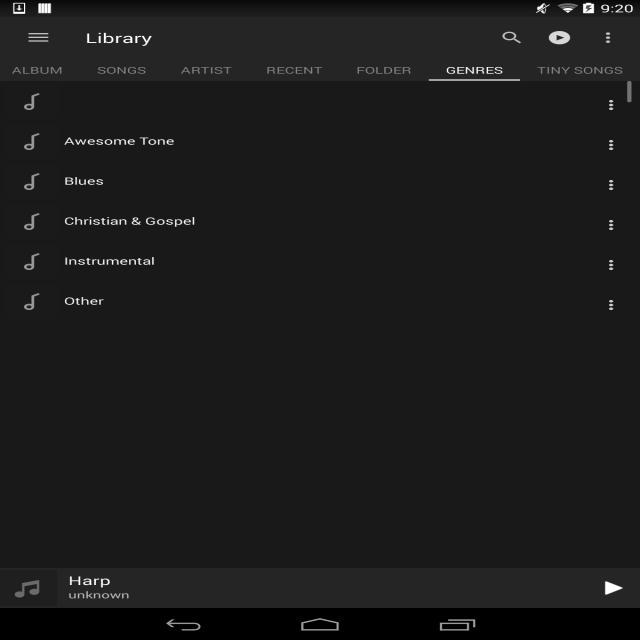ImageButton: (9, 16, 68, 59)
ImageView: (0, 570, 58, 606), (584, 570, 640, 605), (5, 84, 59, 118), (5, 124, 59, 158), (5, 164, 59, 198), (5, 204, 59, 238), (5, 244, 59, 278), (5, 284, 59, 318), (570, 85, 624, 117), (570, 125, 624, 157), (570, 165, 624, 197), (570, 205, 624, 237), (570, 245, 624, 277), (570, 285, 624, 317), (487, 22, 538, 54), (589, 22, 631, 54), (618, 81, 632, 102)
TextView: (59, 91, 570, 111), (59, 131, 570, 151), (59, 171, 570, 191), (59, 211, 570, 231), (59, 251, 570, 271), (59, 291, 570, 311), (68, 572, 585, 588), (68, 588, 585, 601), (520, 59, 640, 81), (429, 59, 520, 81), (249, 59, 339, 81), (339, 59, 429, 81), (163, 59, 249, 81), (80, 59, 163, 81), (0, 59, 80, 81), (538, 22, 588, 54), (86, 28, 152, 46)
